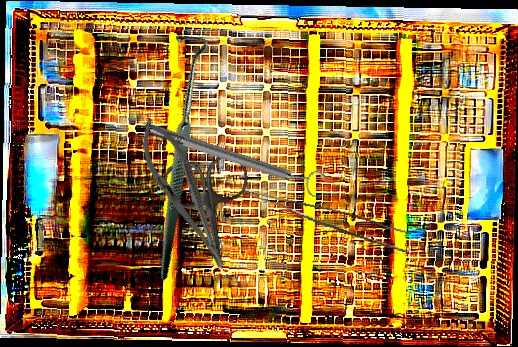Fixation Ring: (146, 114, 328, 201)
Hook Surgical: (55, 24, 294, 282)
Iris Scissors: (161, 151, 262, 277)
Needle Holder: (128, 112, 239, 276)
Tissue Forceps: (239, 188, 413, 253)
